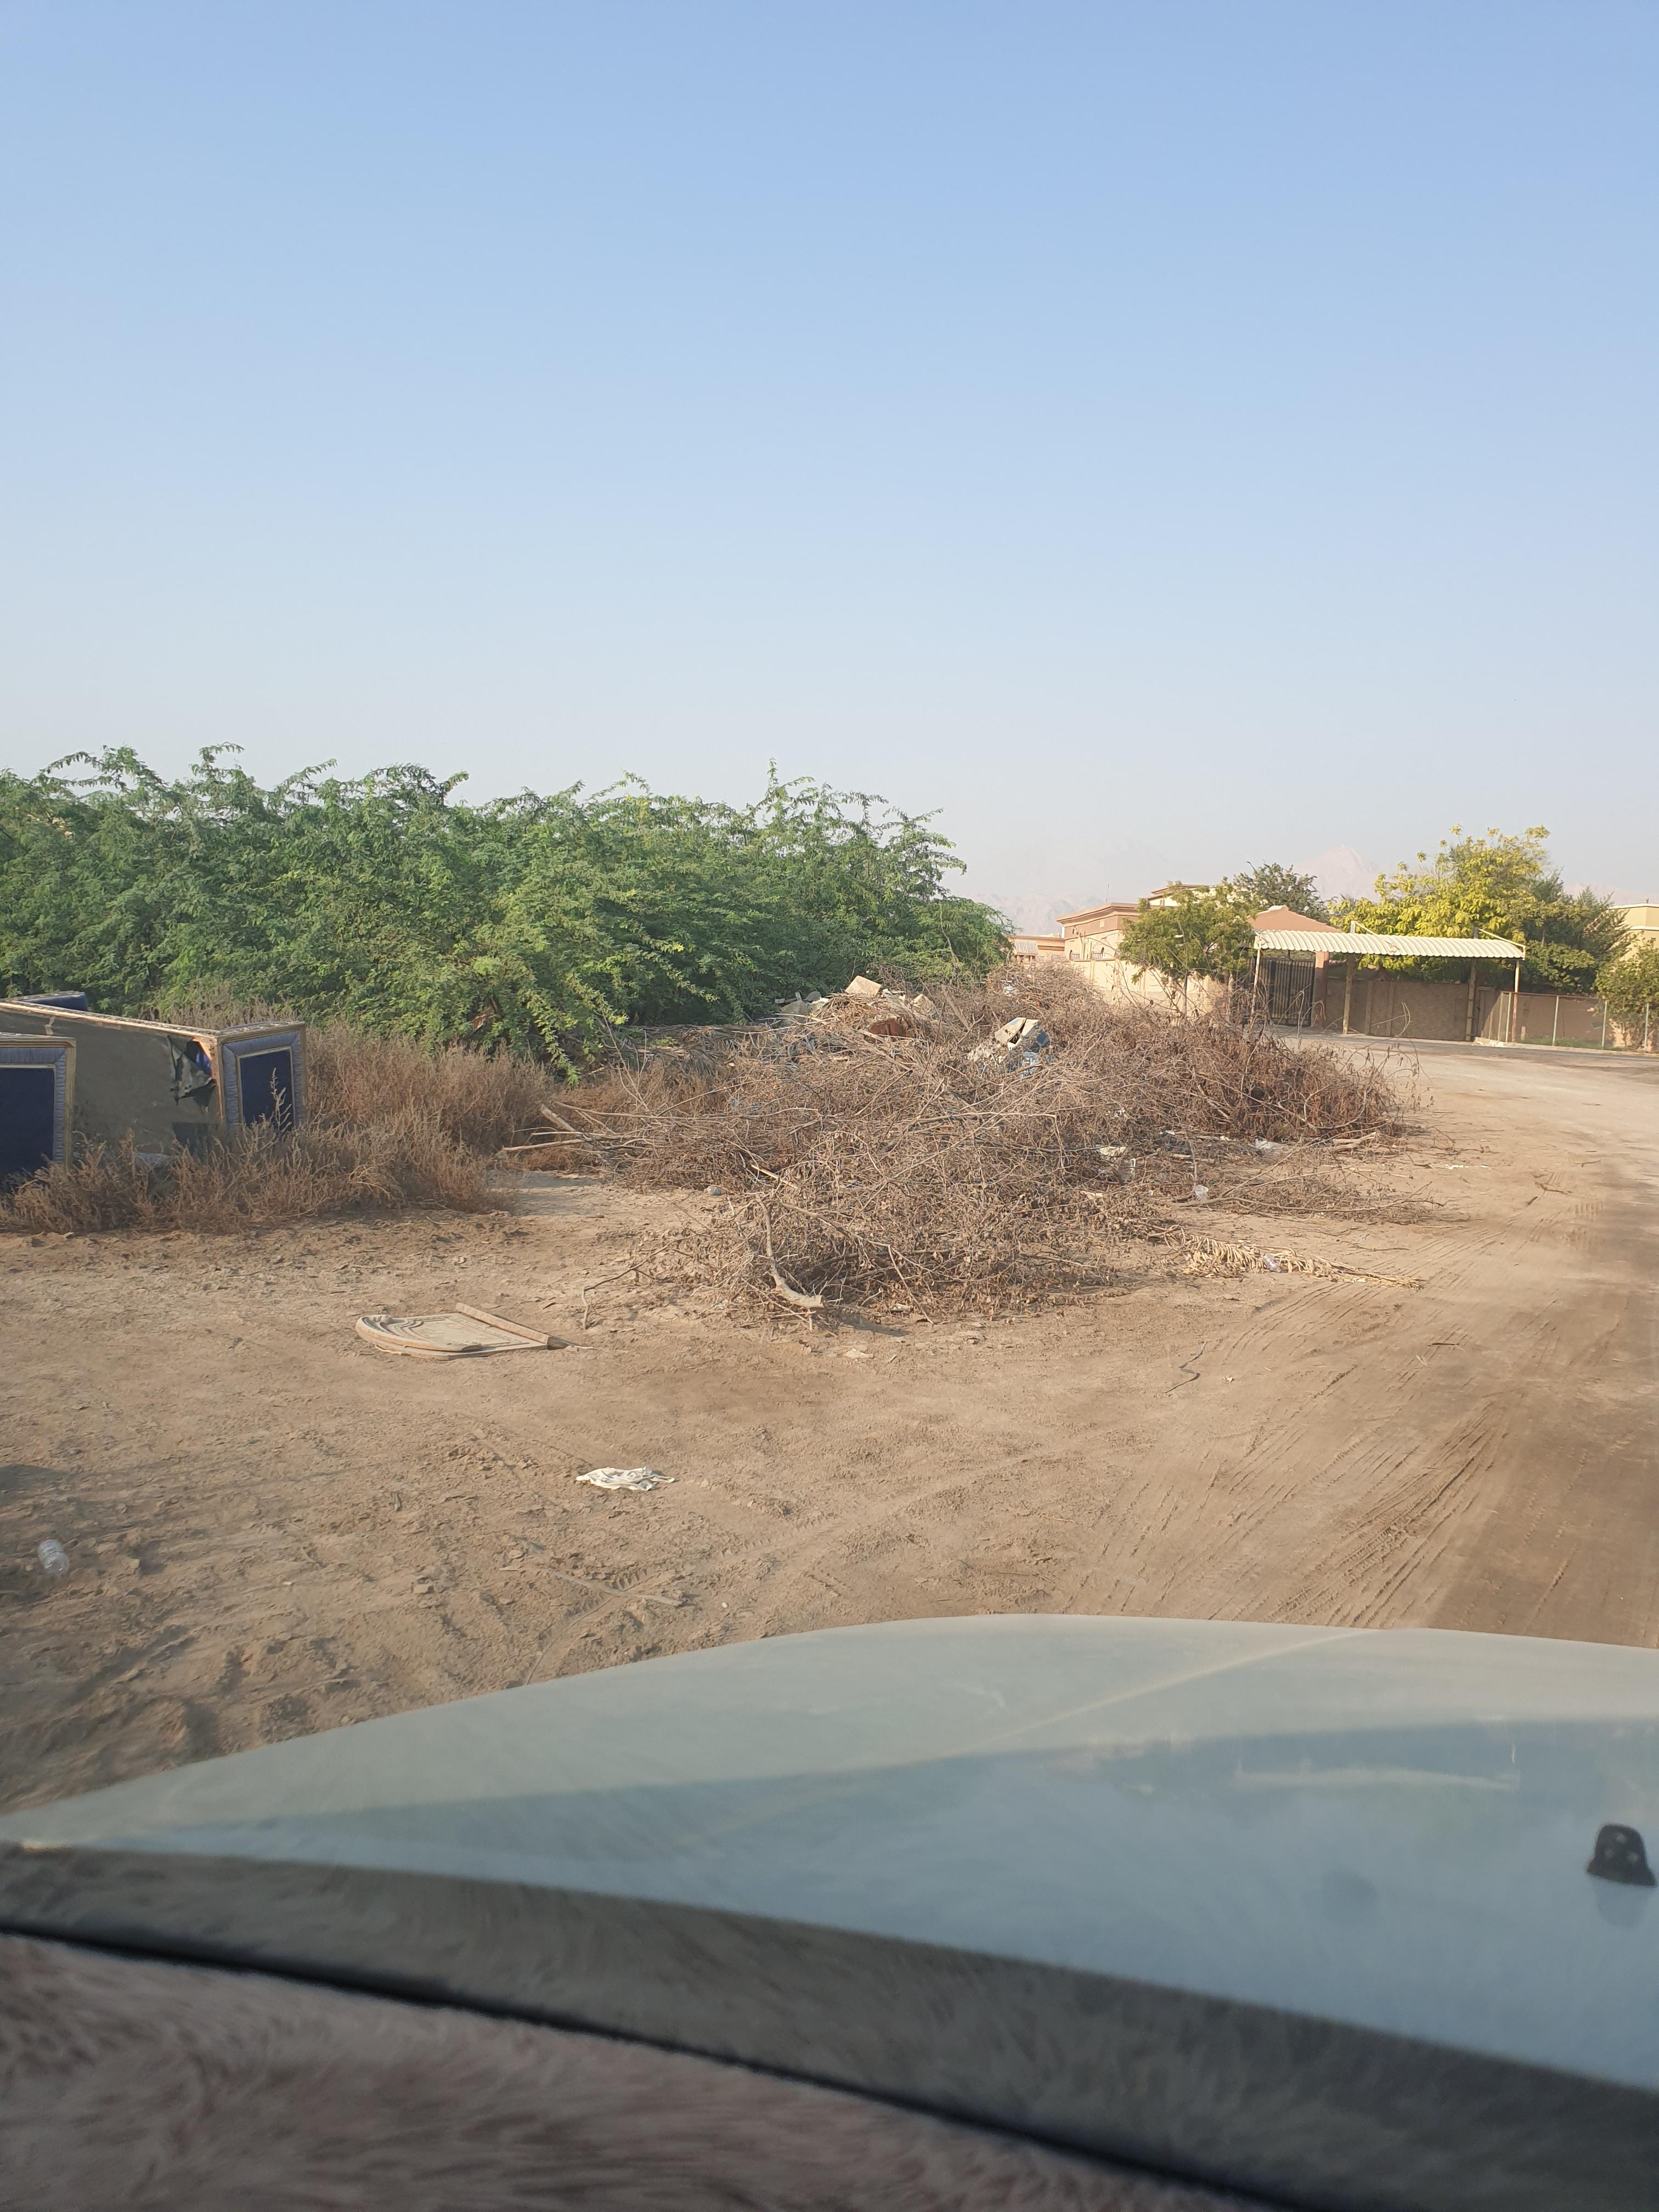fallen_trees: (1147, 1221, 1432, 1310)
uncollected_waste: (953, 1015, 1068, 1062)
